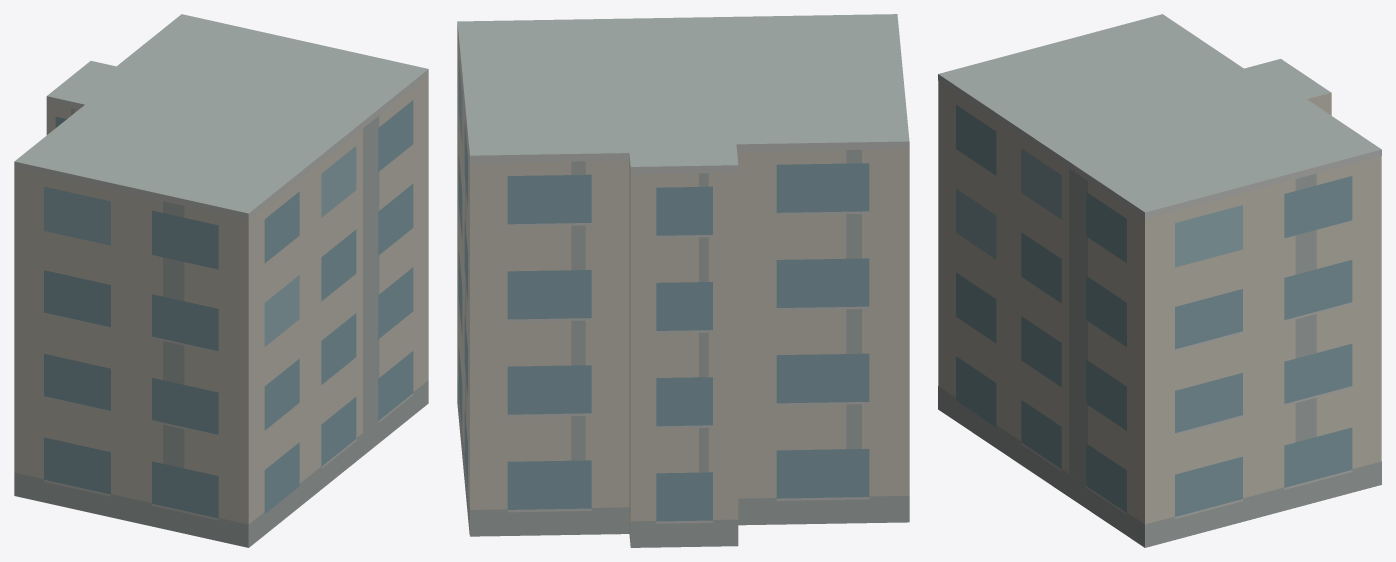
File: residential-21bae449-e104-4924-a07b-cadc0f0a7797.glb
The picture shows the model from 3 angles, left to right: view 1: azimuth 30°, elevation 25°; view 2: azimuth 150°, elevation 25°; view 3: azimuth 270°, elevation 25°; orthographic projection. The views are drawn at different scales.
Parts seen in each view (by area): view 1: residential-21bae449-e104-4924-a07b-cadc0f0a7797.tmp; view 2: residential-21bae449-e104-4924-a07b-cadc0f0a7797.tmp; view 3: residential-21bae449-e104-4924-a07b-cadc0f0a7797.tmp.
Part boxes in pixels (left/top/right/bottom): residential-21bae449-e104-4924-a07b-cadc0f0a7797.tmp: left=14, top=14, right=428, bottom=547; residential-21bae449-e104-4924-a07b-cadc0f0a7797.tmp: left=457, top=14, right=909, bottom=547; residential-21bae449-e104-4924-a07b-cadc0f0a7797.tmp: left=938, top=14, right=1381, bottom=547.
Bounding box in the file's own units: 15.5 × 12.2 × 14.64.
